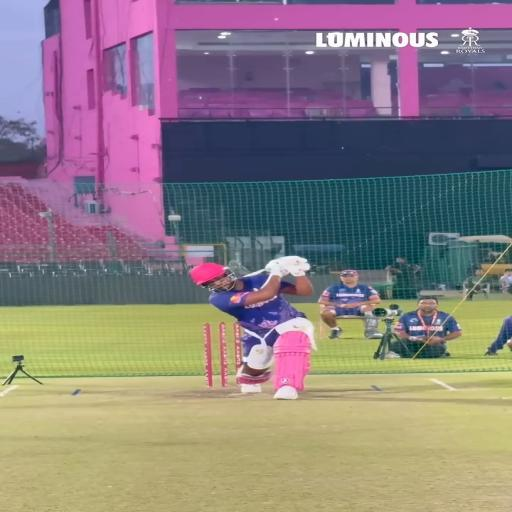Cricket bat: (245, 269, 265, 277)
